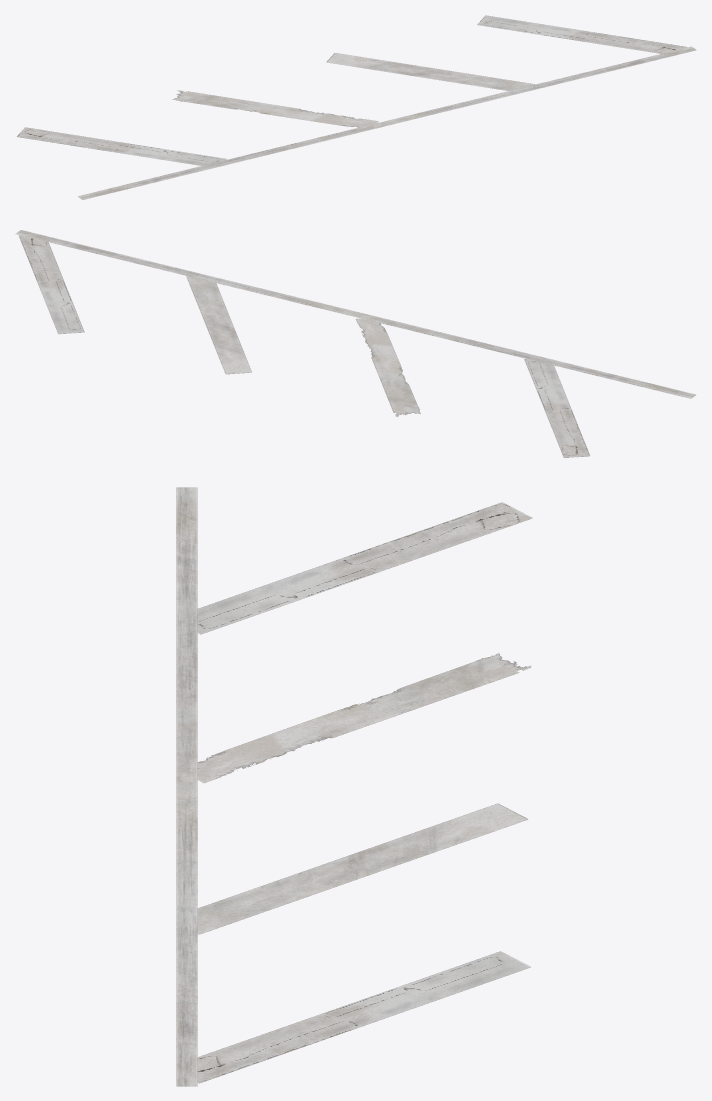
File: MB_Markup_No_Parking.fbx
The picture shows the model from 3 angles, top to bottom: view 1: azimuth 30°, elevation 25°; view 2: azimuth 150°, elevation 25°; view 3: azimuth 270°, elevation 25°; orthographic projection. The views are drawn at different scales.
Parts seen in each view (by area): view 1: MB_Markup_No_Parking; view 2: MB_Markup_No_Parking; view 3: MB_Markup_No_Parking.
Part boxes in pixels (x1,y1,x2,y2): MB_Markup_No_Parking: [16, 15, 696, 199]; MB_Markup_No_Parking: [15, 230, 696, 457]; MB_Markup_No_Parking: [176, 487, 532, 1086].
Size of the model in its own units: 800 by 0.1 by 207.
